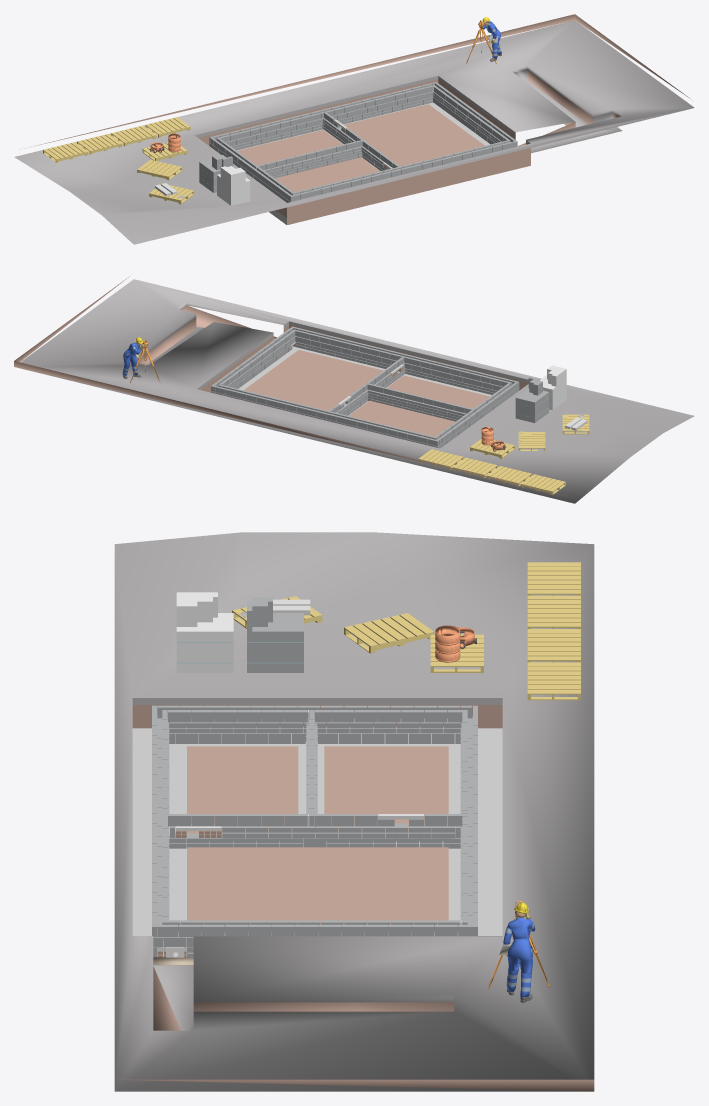
The model's file is Foundations_VDC_v4.glb.
The picture shows the model from 3 angles, top to bottom: view 1: azimuth 30°, elevation 25°; view 2: azimuth 150°, elevation 25°; view 3: azimuth 270°, elevation 25°; orthographic projection. The views are drawn at different scales.
Visible parts, largest first — view 1: Geom3D (×5), 3DGeom-2365, 3DGeom-2364; view 2: Geom3D (×5), 3DGeom-2365, 3DGeom-2364, 3DGeom-2359, 3DGeom-2362; view 3: Geom3D (×6), 3DGeom-2365, 3DGeom-2364, 3DGeom-2359, 3DGeom-2362.
Part boxes in pixels (bbox=[...]): Geom3D (×5): bbox=[14, 14, 694, 244]; 3DGeom-2365: bbox=[209, 85, 512, 201]; 3DGeom-2364: bbox=[209, 91, 517, 202]; Geom3D (×5): bbox=[14, 275, 694, 503]; 3DGeom-2365: bbox=[216, 327, 519, 446]; 3DGeom-2364: bbox=[211, 336, 519, 448]; 3DGeom-2359: bbox=[515, 388, 548, 412]; 3DGeom-2362: bbox=[515, 403, 548, 422]; Geom3D (×6): bbox=[114, 532, 594, 1091]; 3DGeom-2365: bbox=[152, 705, 477, 936]; 3DGeom-2364: bbox=[153, 716, 472, 957]; 3DGeom-2359: bbox=[247, 613, 303, 652]; 3DGeom-2362: bbox=[247, 652, 303, 672].
Size of the model in its own units: 25 by 2.74 by 9.26.
